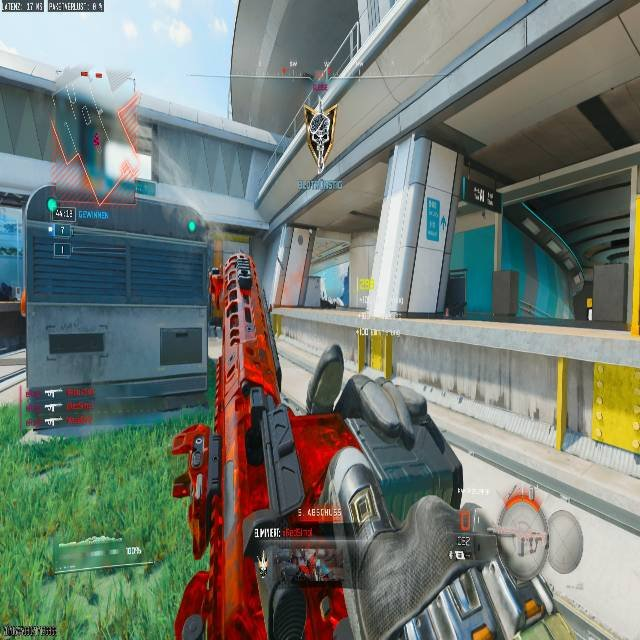head: (348, 498, 467, 639), (494, 485, 551, 580)
player: (306, 97, 336, 167)
